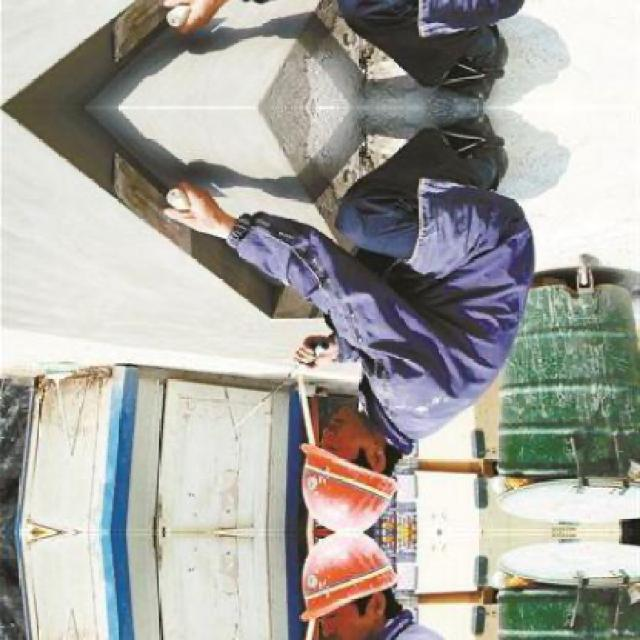con casco: (252, 394, 439, 547)
